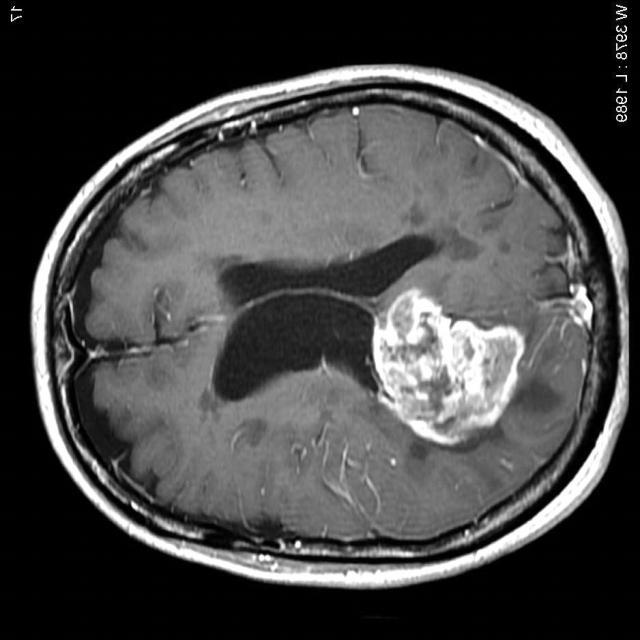tumor: (373, 287, 529, 445)
